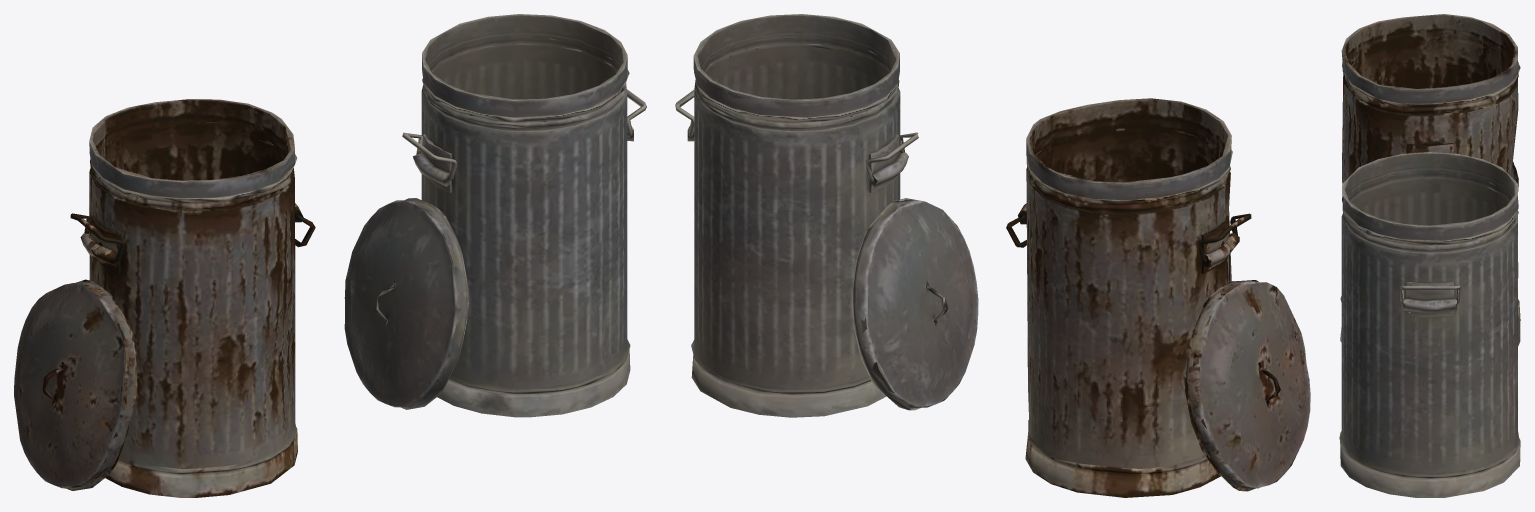
File: scene-bin.glb
3 renders of one model, left to right at view 1: azimuth 30°, elevation 25°; view 2: azimuth 150°, elevation 25°; view 3: azimuth 270°, elevation 25°, orthographic. The views are drawn at different scales.
Parts seen in each view (by area): view 1: metal_trash_can_handle_left, metal_trash_can_rust; view 2: metal_trash_can_handle_left, metal_trash_can_rust; view 3: metal_trash_can_handle_left, metal_trash_can_rust.
Boxes of the visible parts, x1,y1,x2,y2 form: metal_trash_can_handle_left: [344, 14, 646, 417]; metal_trash_can_rust: [14, 99, 315, 497]; metal_trash_can_handle_left: [675, 14, 978, 417]; metal_trash_can_rust: [1006, 98, 1310, 497]; metal_trash_can_handle_left: [1339, 152, 1520, 497]; metal_trash_can_rust: [1340, 14, 1520, 320].
Bounding box in the file's own units: 1.78 × 0.9062 × 0.5503.
Materials: 2 (2 with a texture image).
